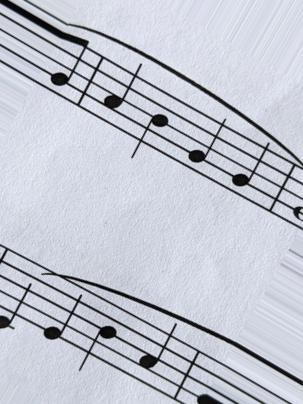note: (79, 283, 121, 374), (103, 50, 143, 142), (43, 263, 83, 355), (187, 102, 228, 190), (232, 130, 273, 217), (138, 313, 176, 402), (133, 75, 170, 161), (1, 244, 33, 337)
